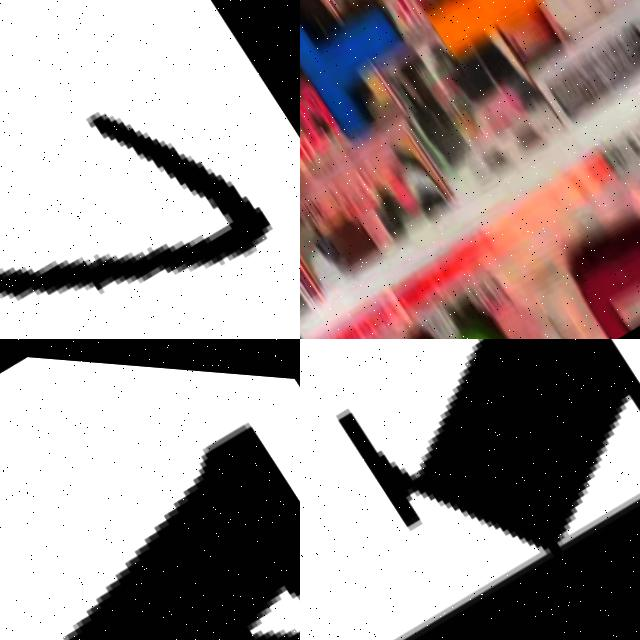K: (300, 339, 640, 640)
L: (0, 22, 272, 339), (371, 0, 547, 58)
T: (300, 0, 436, 144)
X: (0, 382, 300, 640)
